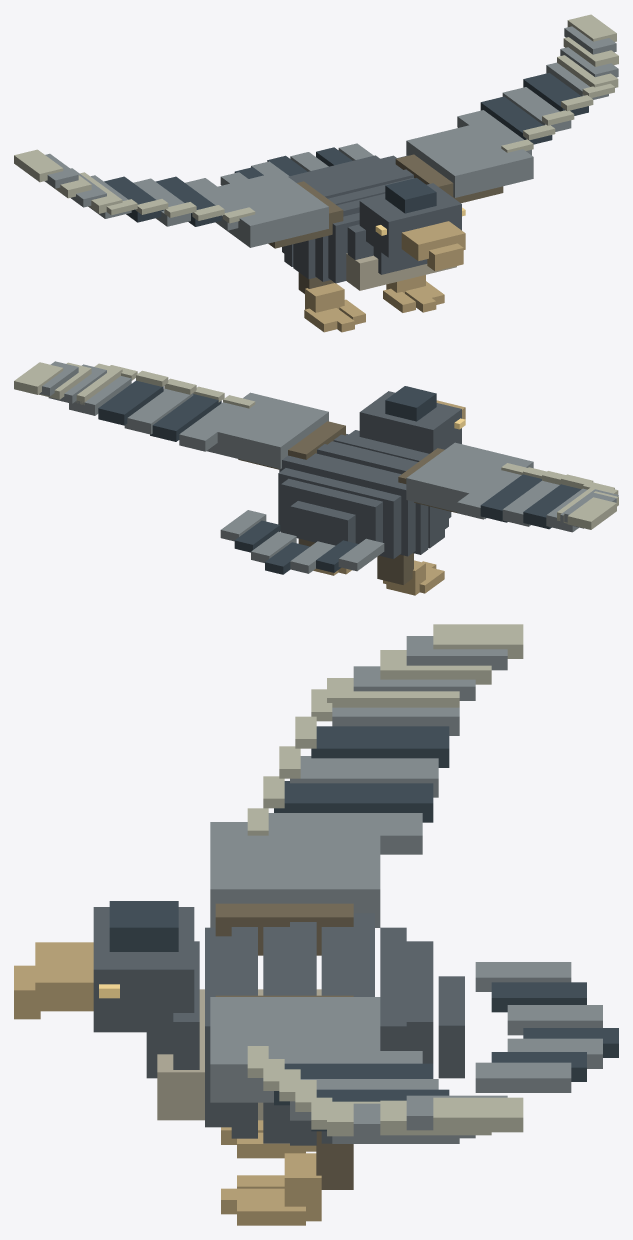
Rendered from spire_glider.glb.
3 views of the same model, one above another, from view 1: azimuth 30°, elevation 25°; view 2: azimuth 150°, elevation 25°; view 3: azimuth 270°, elevation 25° (orthographic). The views are drawn at different scales.
Parts seen in each view (by area): view 1: spire_glider/torso, spire_glider/head, spire_glider/wing_shoulder_1, spire_glider/wing_shoulder_-1, spire_glider/wing_elbow_1, spire_glider/wing_elbow_-1, spire_glider/wing_tip_1, spire_glider/wing_tip_-1, spire_glider/locomotion_-1, spire_glider/tail_fan, spire_glider/locomotion_1; view 2: spire_glider/torso, spire_glider/wing_elbow_1, spire_glider/wing_shoulder_1, spire_glider/wing_elbow_-1, spire_glider/wing_shoulder_-1, spire_glider/head, spire_glider/tail_fan, spire_glider/wing_tip_1, spire_glider/locomotion_-1, spire_glider/wing_tip_-1; view 3: spire_glider/torso, spire_glider/wing_elbow_-1, spire_glider/head, spire_glider/wing_shoulder_-1, spire_glider/tail_fan, spire_glider/wing_shoulder_1, spire_glider/wing_tip_-1, spire_glider/wing_elbow_1, spire_glider/wing_tip_1, spire_glider/locomotion_1, spire_glider/locomotion_-1.
Part boxes in pixels (left/top/right/bottom): spire_glider/torso: left=282, top=155, right=456, bottom=290; spire_glider/head: left=359, top=178, right=465, bottom=271; spire_glider/wing_shoulder_1: left=395, top=121, right=533, bottom=203; spire_glider/wing_shoulder_-1: left=202, top=171, right=343, bottom=248; spire_glider/wing_elbow_1: left=457, top=62, right=614, bottom=155; spire_glider/wing_elbow_-1: left=88, top=175, right=255, bottom=230; spire_glider/wing_tip_1: left=557, top=14, right=618, bottom=87; spire_glider/wing_tip_-1: left=14, top=149, right=122, bottom=213; spire_glider/locomotion_-1: left=298, top=272, right=365, bottom=332; spire_glider/tail_fan: left=220, top=143, right=373, bottom=185; spire_glider/locomotion_1: left=383, top=275, right=444, bottom=312; spire_glider/torso: left=278, top=430, right=451, bottom=558; spire_glider/wing_elbow_1: left=69, top=365, right=255, bottom=451; spire_glider/wing_shoulder_1: left=206, top=392, right=345, bottom=469; spire_glider/wing_elbow_-1: left=457, top=463, right=614, bottom=532; spire_glider/wing_shoulder_-1: left=398, top=442, right=533, bottom=518; spire_glider/head: left=359, top=386, right=465, bottom=453; spire_glider/tail_fan: left=220, top=510, right=384, bottom=574; spire_glider/wing_tip_1: left=14, top=361, right=122, bottom=404; spire_glider/locomotion_-1: left=377, top=553, right=444, bottom=595; spire_glider/wing_tip_-1: left=557, top=484, right=618, bottom=529; spire_glider/torso: left=146, top=913, right=464, bottom=1145; spire_glider/wing_elbow_-1: left=247, top=689, right=459, bottom=854; spire_glider/head: left=14, top=901, right=194, bottom=1032; spire_glider/wing_shoulder_-1: left=210, top=822, right=380, bottom=955; spire_glider/tail_fan: left=475, top=962, right=618, bottom=1092; spire_glider/wing_shoulder_1: left=210, top=995, right=380, bottom=1102; spire_glider/wing_tip_-1: left=327, top=624, right=523, bottom=707; spire_glider/wing_elbow_1: left=247, top=1046, right=459, bottom=1143; spire_glider/wing_tip_1: left=327, top=1095, right=523, bottom=1138; spire_glider/locomotion_1: left=221, top=1131, right=353, bottom=1225; spire_glider/locomotion_-1: left=221, top=1120, right=316, bottom=1158.
Bounding box in the file's own units: 6.88 × 1.97 × 3.56.
